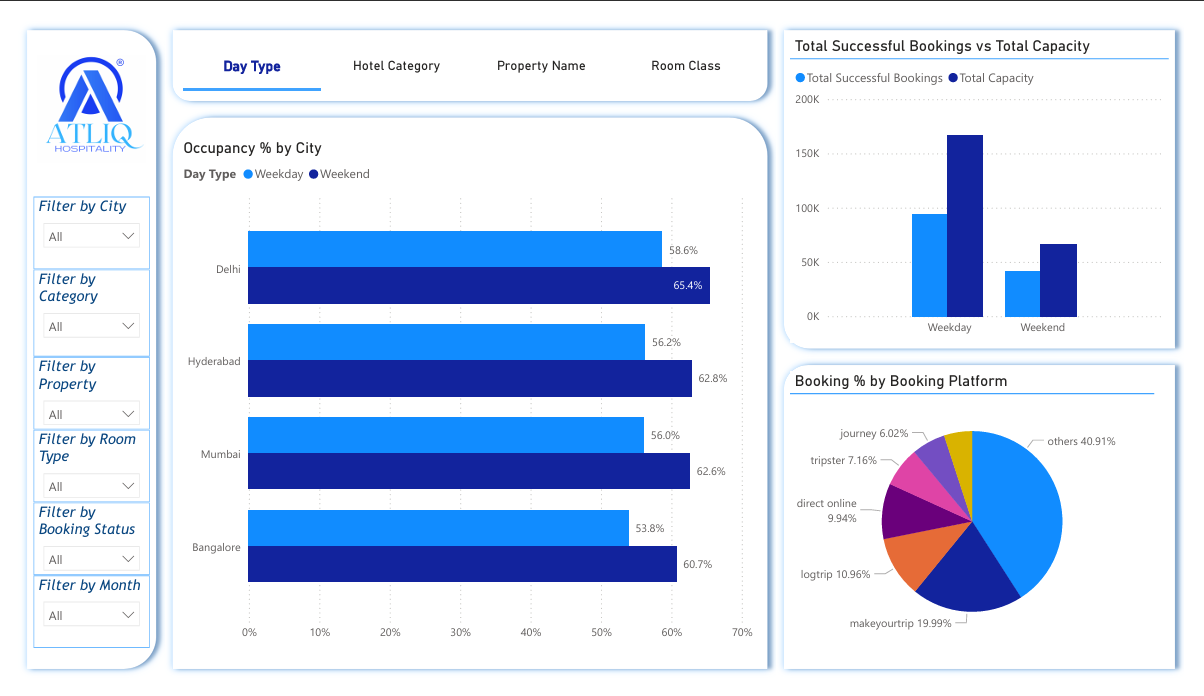

Layout of this report page (visuals, bound fields, positions):
{"tool":"powerbi","page":{"name":"Detailed Analysis","canvas":[1280,720],"ordinal":1},"visuals":[{"type":"shape","box":[160,0,672,96],"z":0},{"type":"shape","box":[832,368,448,352],"z":1000},{"type":"shape","box":[832,0,448,368],"z":2000},{"type":"shape","box":[160,96,672,624],"z":3000},{"type":"shape","box":[0,0,160,720],"z":4000},{"type":"slicer","title":"Filter by City","fields":{"Values":["dim_hotels.city"]},"box":[16,192,128,80],"z":5000},{"type":"slicer","title":"Filter by Room Type","fields":{"Values":["dim_rooms.room_class"]},"box":[16,448,128,80],"z":6000},{"type":"slicer","title":"Filter by Property","fields":{"Values":["dim_hotels.property_name"]},"box":[16,368,128,80],"z":7000},{"type":"slicer","title":"Filter by Booking Status","fields":{"Values":["fact_bookings.booking_status"]},"box":[16,528,128,80],"z":8000},{"type":"slicer","title":"Filter by Month","fields":{"Values":["dim_date.mmm yy"]},"box":[16,608,128,80],"z":9000},{"type":"slicer","title":"Filter by Category","fields":{"Values":["dim_hotels.category"]},"box":[16,272,128,96],"z":10000},{"type":"pieChart","title":"Booking % by Booking Platform","fields":{"Y":["Measures (2).Booking % by Platform"],"Category":["fact_bookings.booking_platform"]},"box":[848,384,400,304],"z":11000},{"type":"clusteredColumnChart","title":"Total Successful Bookings vs Total Capacity","fields":{"Y":["Measures (2).Total Successful Bookings","Measures (2).Total Capacity"],"Category":["dim_date.Day Type"]},"box":[848,16,416,336],"z":12000},{"type":"clusteredBarChart","title":"Occupancy % by City","fields":{"Category":["dim_hotels.city"],"Series":["dim_date.Day Type"],"Y":["Measures (2).Occupancy %"]},"box":[176,128,640,560],"z":13000},{"type":"advancedSlicerVisual","title":"Occupancy%","fields":{"Values":["Legend.Legend"]},"box":[176,16,640,64],"z":14000},{"type":"image","box":[16,32,128,128],"z":15000}]}

Visuals, with their boxes in screenshot pixels (x1, y1, x2, y2), scaled from the page's 1280x720 canvas onto the 1204x696 screenshot:
shape: bbox=(150, 0, 783, 93)
shape: bbox=(783, 356, 1203, 695)
shape: bbox=(783, 0, 1203, 356)
shape: bbox=(150, 93, 783, 695)
shape: bbox=(0, 0, 150, 695)
"Filter by City" slicer: bbox=(15, 186, 135, 263)
"Filter by Room Type" slicer: bbox=(15, 433, 135, 510)
"Filter by Property" slicer: bbox=(15, 356, 135, 433)
"Filter by Booking Status" slicer: bbox=(15, 510, 135, 588)
"Filter by Month" slicer: bbox=(15, 588, 135, 665)
"Filter by Category" slicer: bbox=(15, 263, 135, 356)
"Booking % by Booking Platform" pieChart: bbox=(798, 371, 1174, 665)
"Total Successful Bookings vs Total Capacity" clusteredColumnChart: bbox=(798, 15, 1189, 340)
"Occupancy % by City" clusteredBarChart: bbox=(166, 124, 768, 665)
"Occupancy%" advancedSlicerVisual: bbox=(166, 15, 768, 77)
image: bbox=(15, 31, 135, 155)
